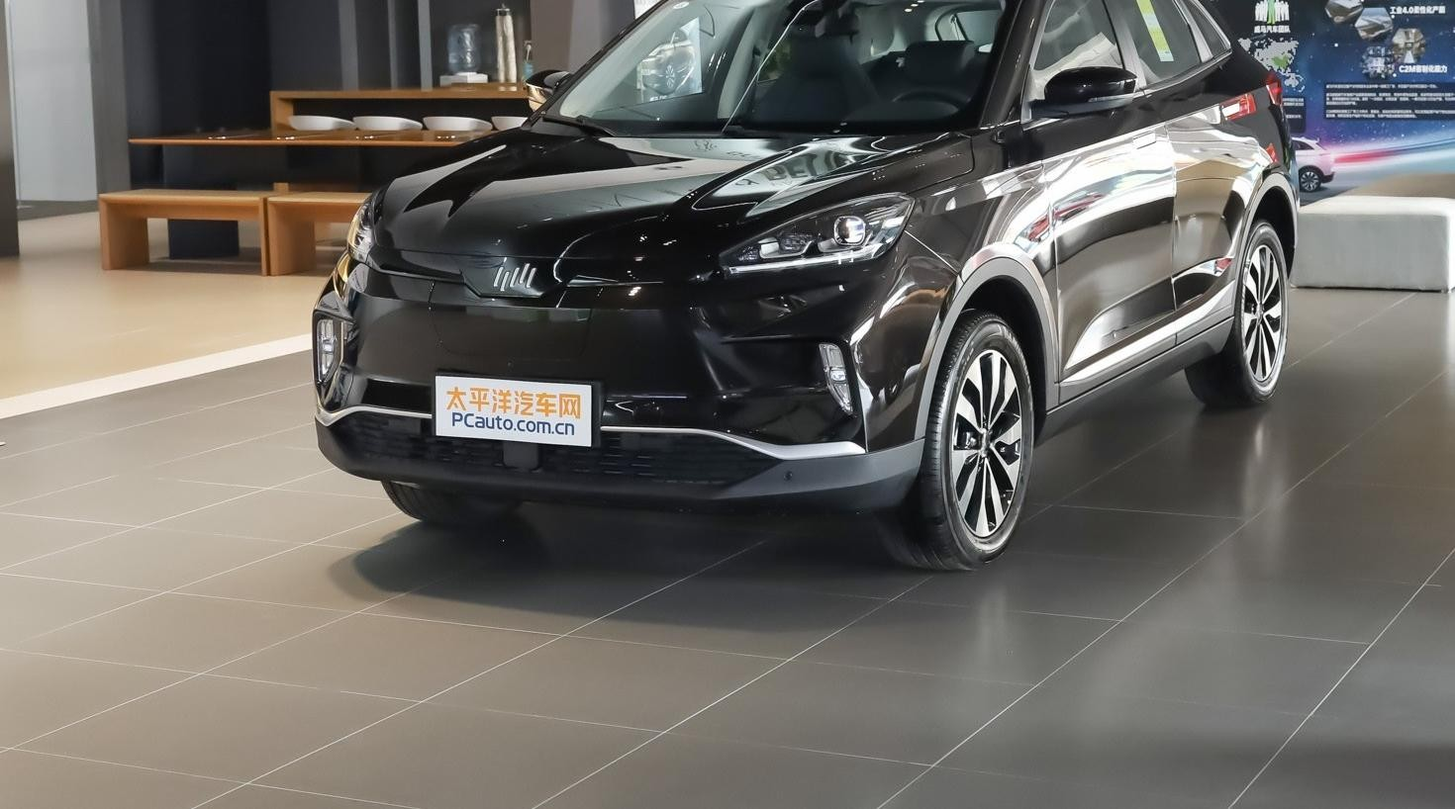WELTMEISTER: (494, 264, 535, 291)
